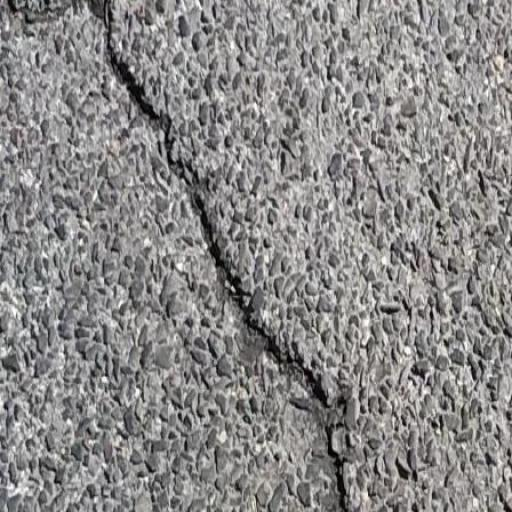spalling: (97, 3, 359, 506)
